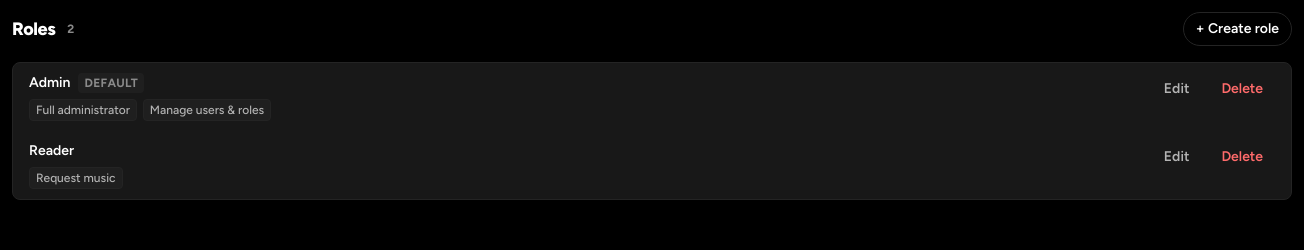
Scenario: RolesSection › handles deleteRole 409 (registration default) with a friendly message
Click the button "Delete" in the row of "Default". click: click(1242, 89)
box: [1209,73,1275,105]
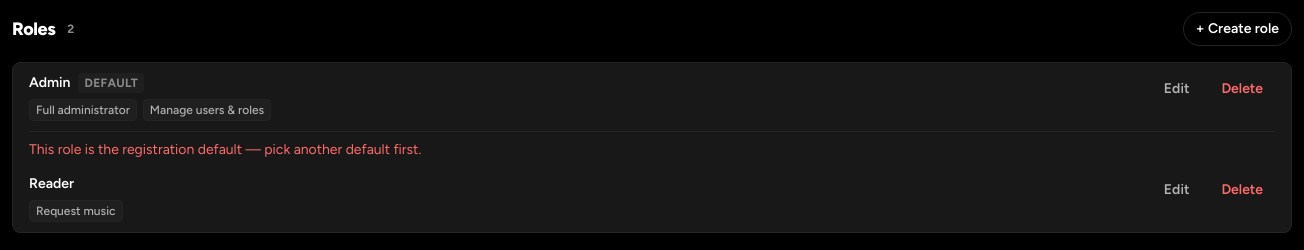
Check: the message shows "registration default", box [29,141,421,158]
